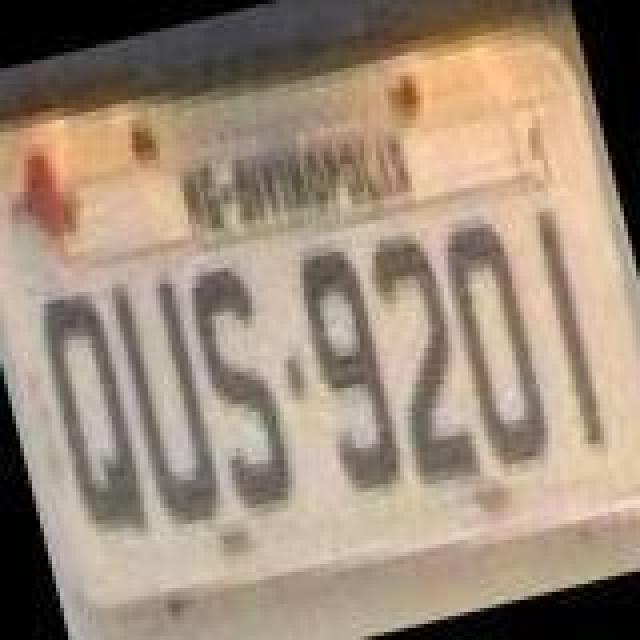1: (526, 206, 610, 450)
2: (358, 224, 490, 496)
9: (290, 236, 414, 500)
O: (434, 212, 558, 476)
Q: (32, 284, 160, 556)
S: (176, 260, 304, 524)
U: (102, 264, 234, 536)
